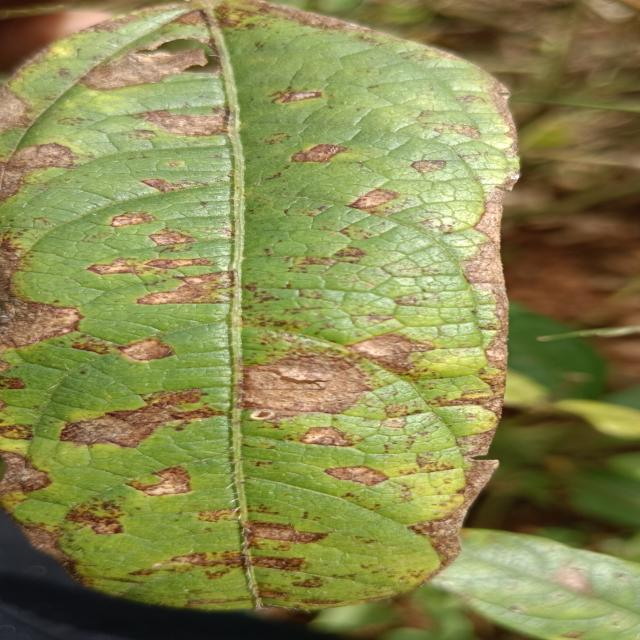Black gram_leaf spot: (0, 0, 516, 609)
